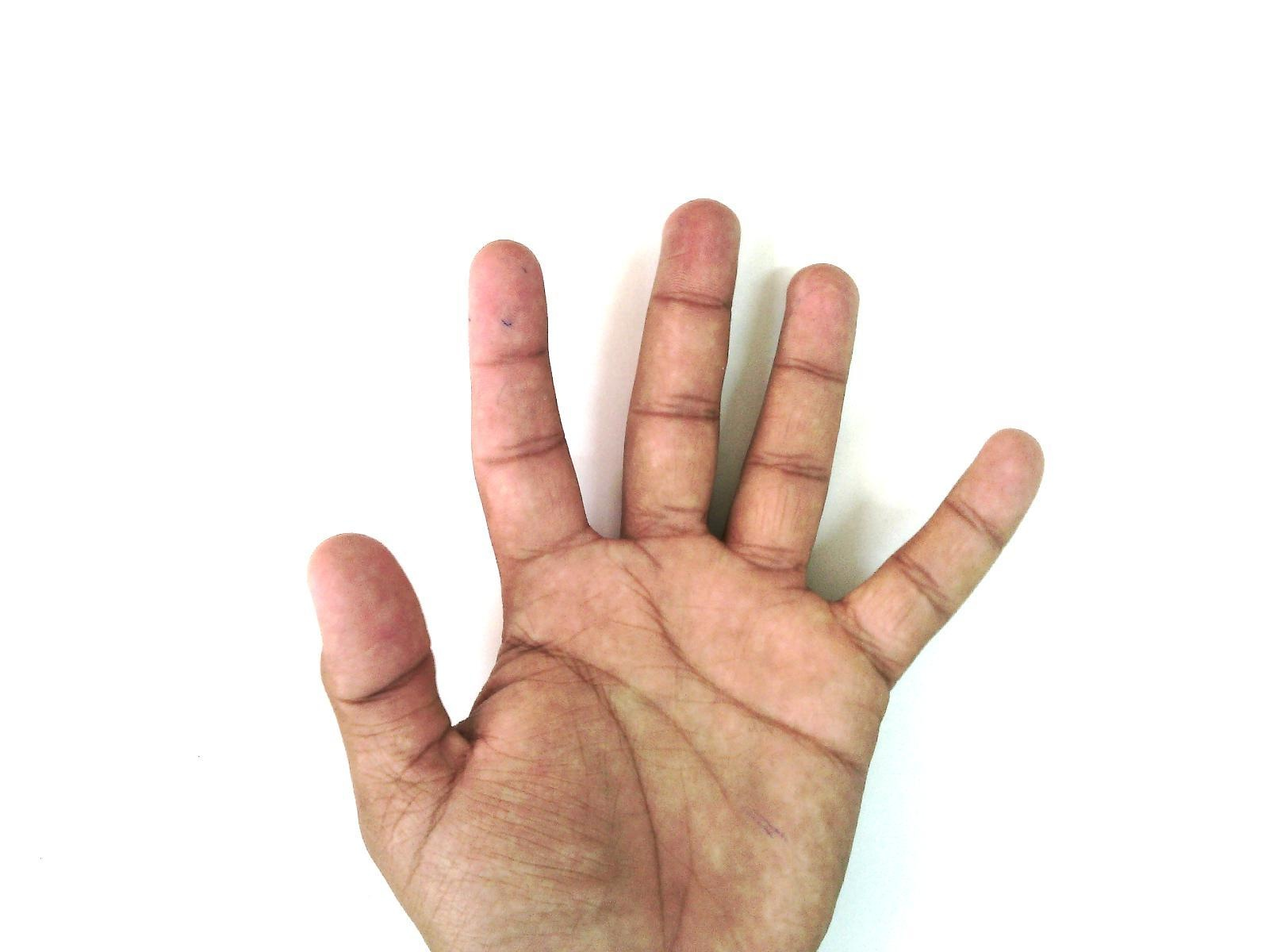open_palm: (305, 198, 1047, 952)
